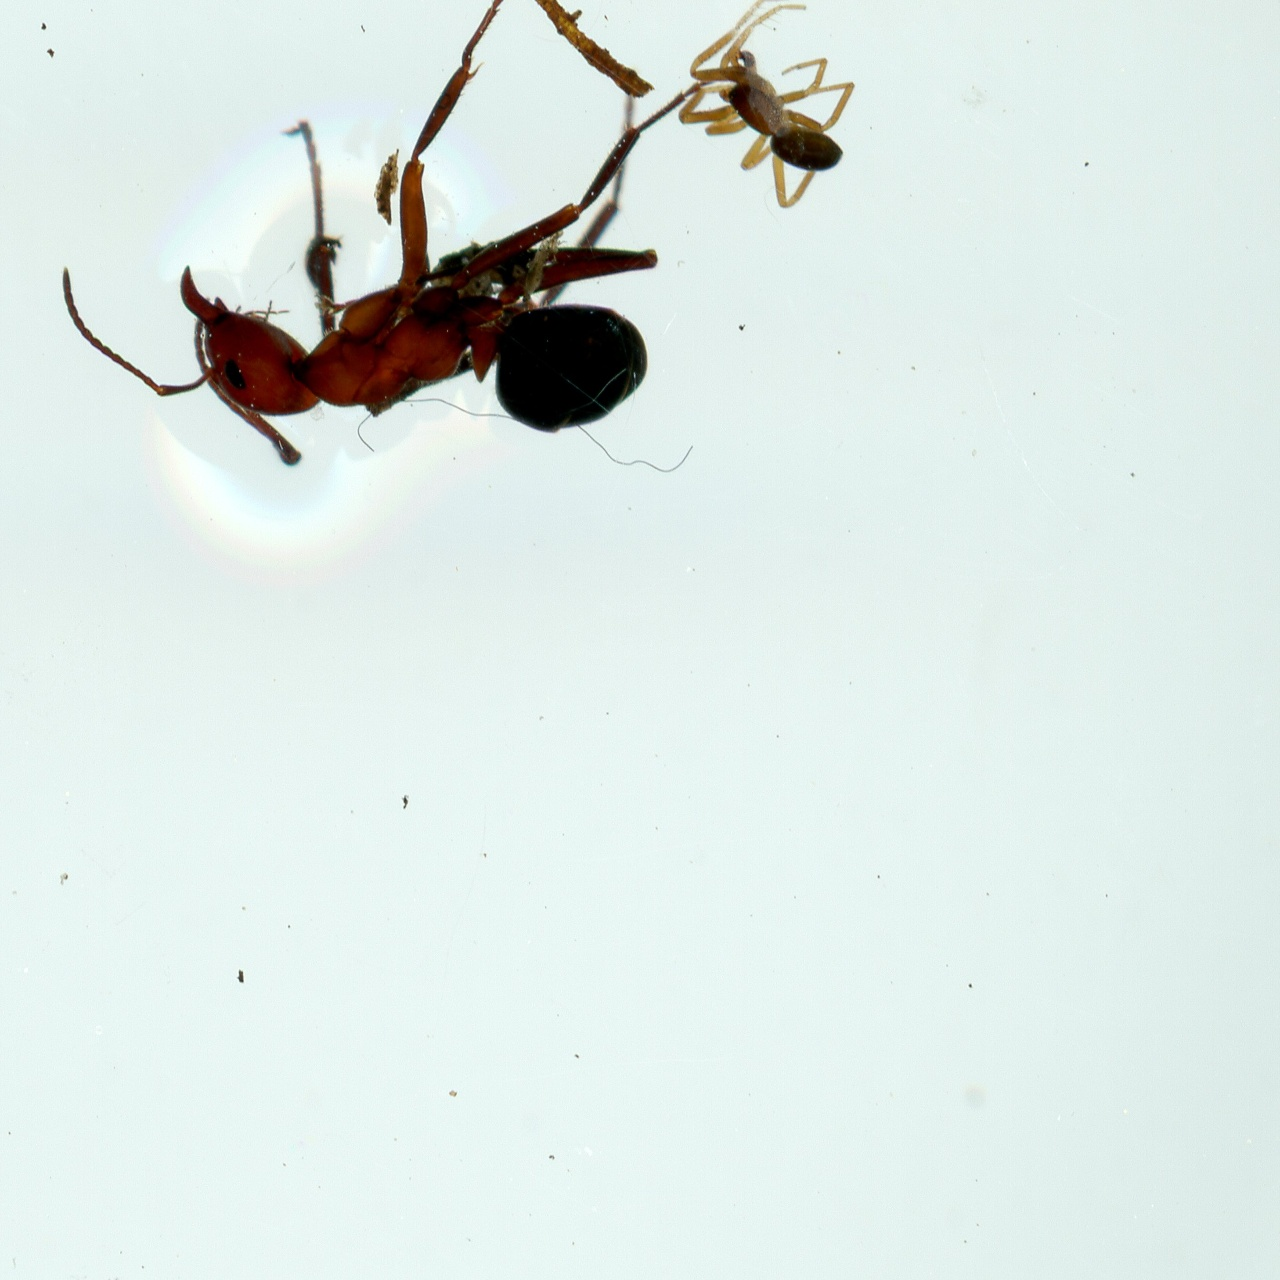arthropod: (50, 0, 686, 493), (668, 0, 870, 212)
